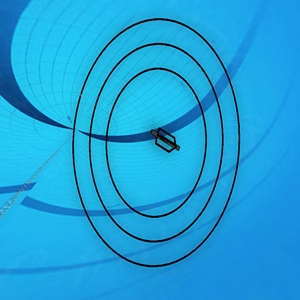submarine: (71, 16, 240, 266), (151, 128, 179, 154)
